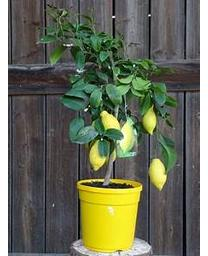lemon: (100, 109, 119, 142), (150, 159, 167, 192), (92, 141, 105, 171), (143, 108, 156, 134)
